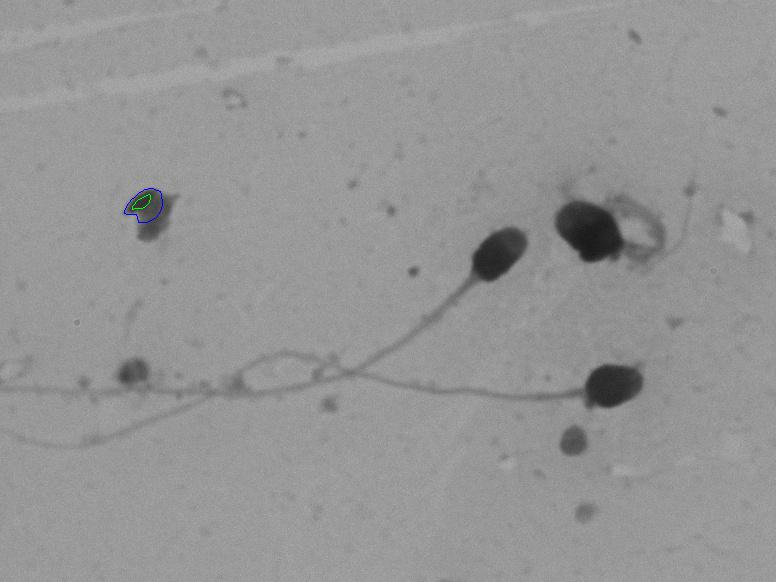Abnormal: (530, 117, 700, 288)
Normal: (2, 188, 556, 433), (18, 343, 665, 470)
